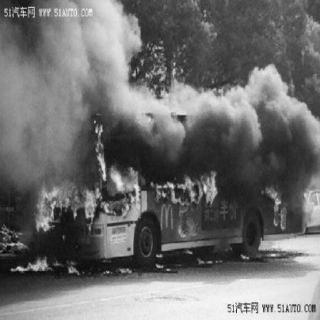Smoke: (8, 8, 134, 170)
